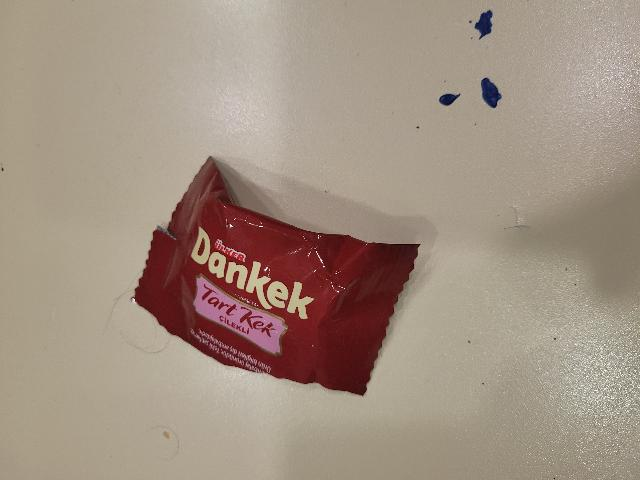Plastik: (116, 152, 430, 399)
